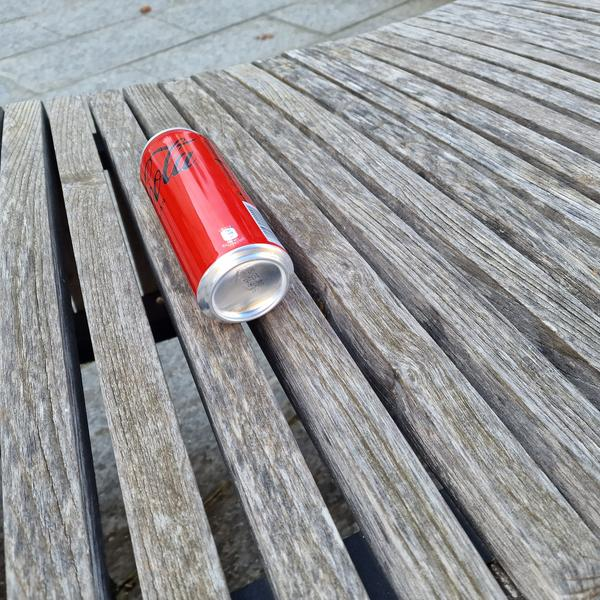can: (114, 105, 308, 341)
